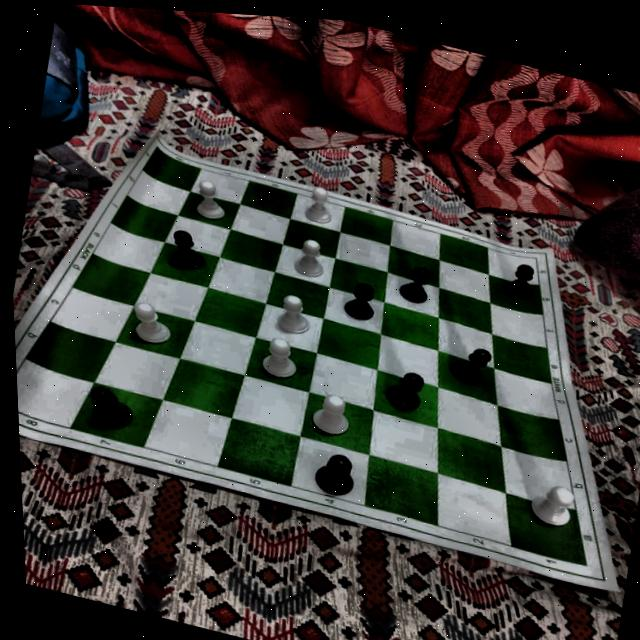BlackPawn: (81, 382, 137, 434), (445, 340, 495, 389), (312, 448, 359, 499), (380, 365, 427, 414), (167, 227, 208, 271), (340, 278, 379, 322), (395, 260, 433, 305), (503, 259, 538, 301)
WhitePawn: (527, 479, 577, 529), (128, 299, 177, 348), (309, 387, 352, 438), (259, 333, 300, 381), (273, 291, 313, 336), (191, 179, 230, 222), (291, 235, 329, 279), (303, 184, 337, 226)
